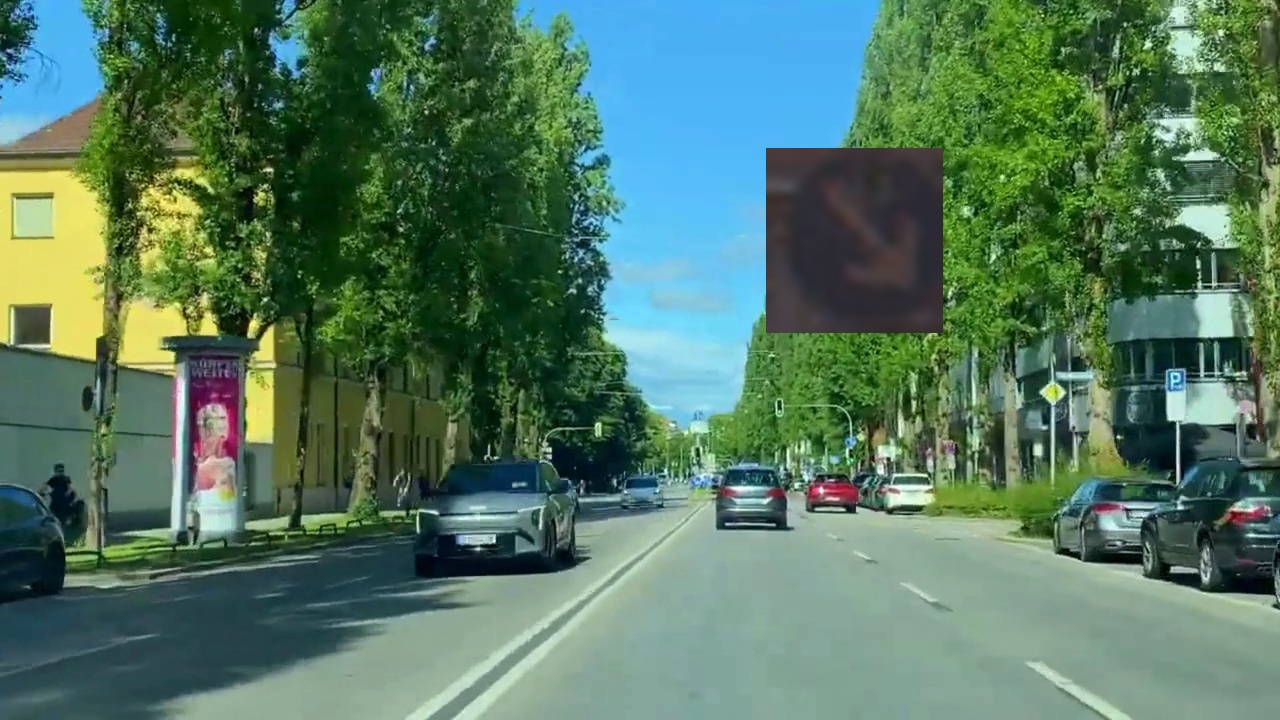Keep right: (766, 148, 943, 333)
